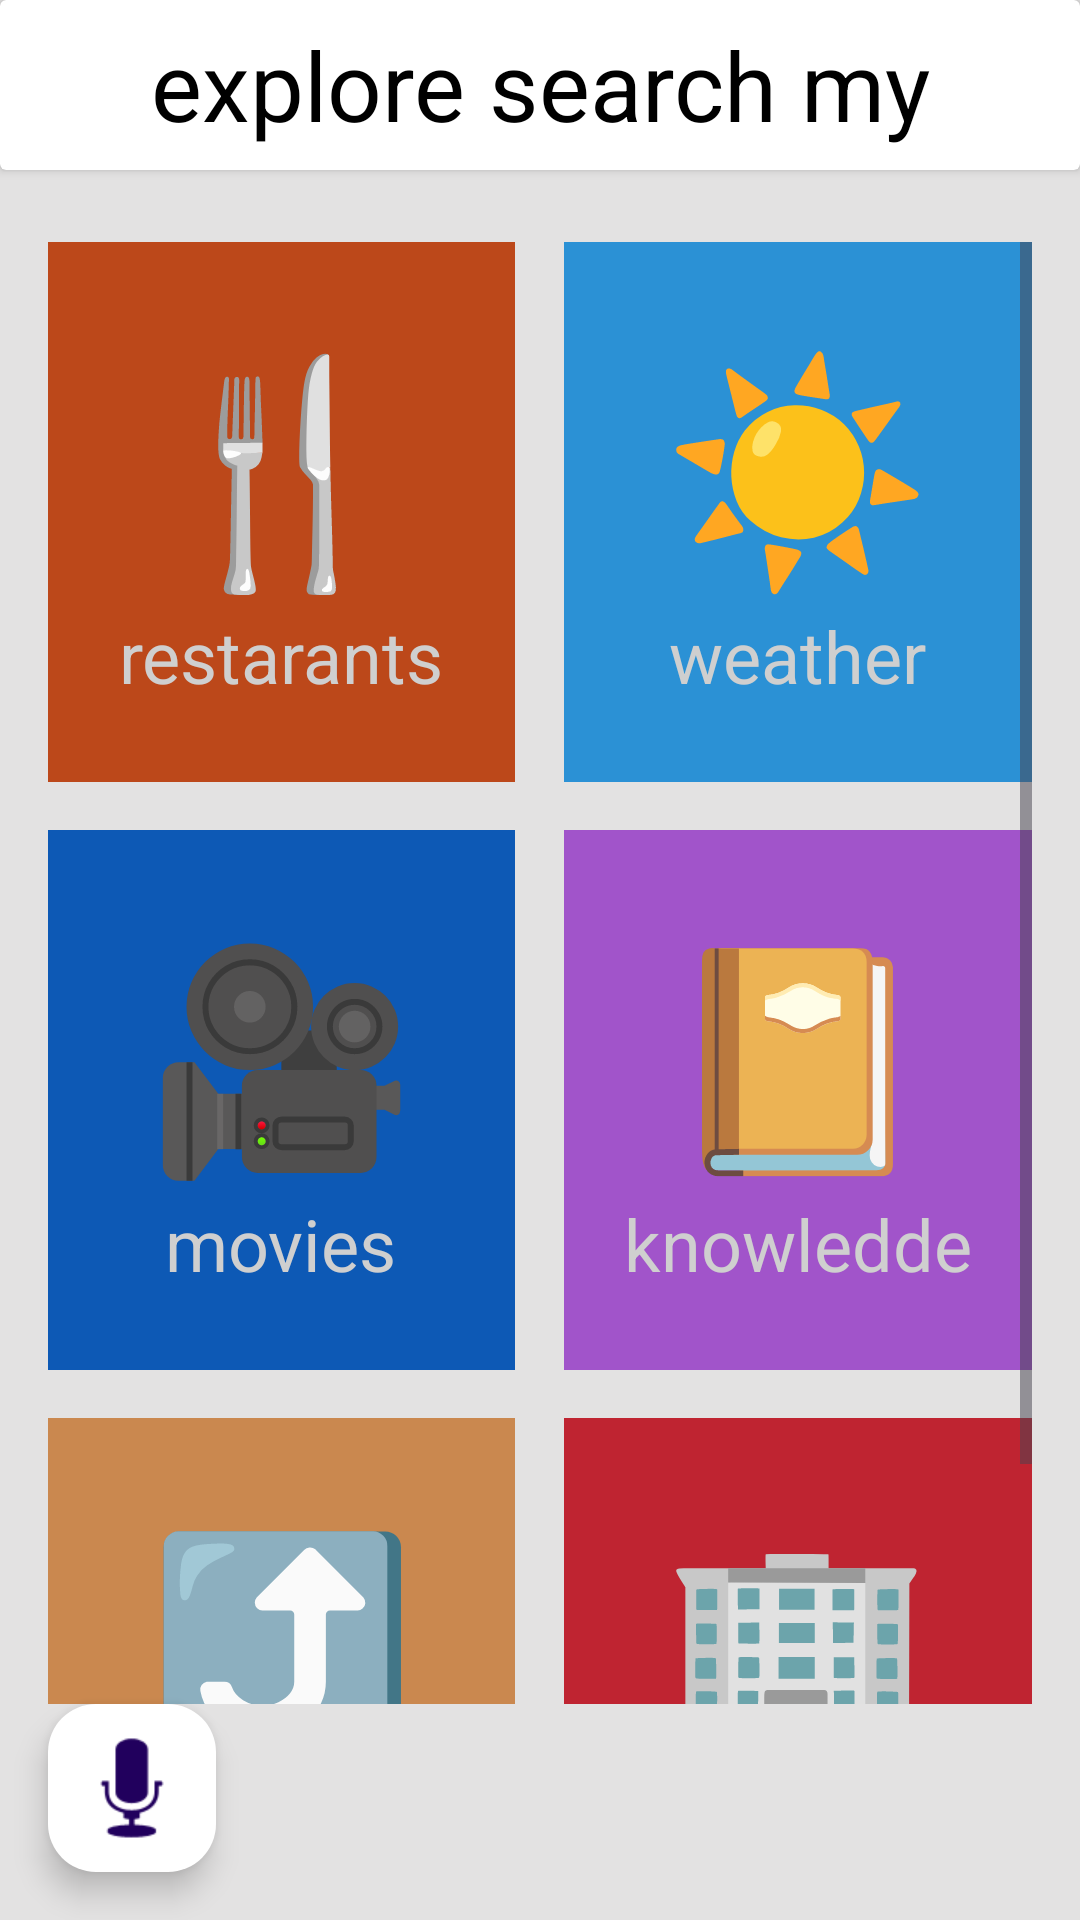

Named icons in this screenshot (1080w x 1920h) and their bounding boxes, (x1, y1, x2, y2):
speak now: (48, 1704, 216, 1872)
